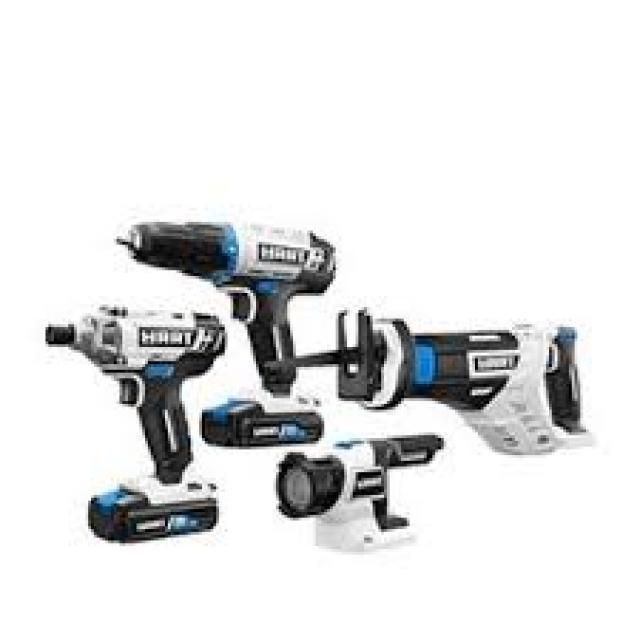drill: (108, 210, 346, 450), (36, 296, 235, 548)
